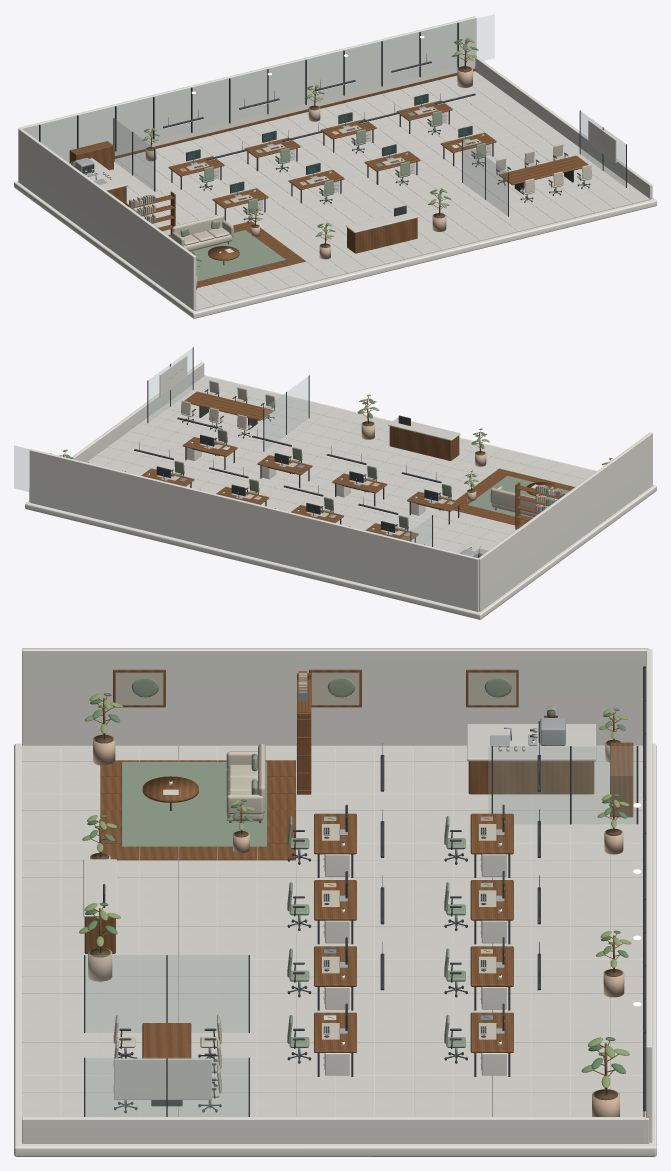
File: headquarters.glb
3 views of the same model, one above another, from view 1: azimuth 30°, elevation 25°; view 2: azimuth 150°, elevation 25°; view 3: azimuth 270°, elevation 25° (orthographic). The views are drawn at different scales.
Visible parts, largest first — view 1: Static batch / Warm limestone, Static batch / Ivory plaster, Static batch / Low iron architectural glass, Static batch / Natural oak / longitudinal grain, Static batch / Graphite powder coated steel, Static batch / Olive linen, Static batch / Oat bouclé, Static batch / Matte ceramic, Static batch / Monitor dark glass, Static batch / Brushed aluminium, Static batch / Porcelain, Static batch / Young leaves; view 2: Static batch / Ivory plaster, Static batch / Warm limestone, Static batch / Natural oak / longitudinal grain, Static batch / Low iron architectural glass, Static batch / Graphite powder coated steel, Static batch / Oat bouclé, Static batch / Olive linen, Static batch / Porcelain, Static batch / Matte ceramic, Static batch / Brushed aluminium; view 3: Static batch / Warm limestone, Static batch / Ivory plaster, Static batch / Low iron architectural glass, Static batch / Natural oak / longitudinal grain, Static batch / Olive linen, Static batch / Oat bouclé, Static batch / Graphite powder coated steel, Static batch / Porcelain, Static batch / Matte ceramic, Static batch / Brushed aluminium, Static batch / Young leaves, Static batch / Ficus leaf (+1 smaller).
Boxes of the visible parts, <box> form: Static batch / Warm limestone: <box>70,71,651,310</box>; Static batch / Ivory plaster: <box>14,16,656,318</box>; Static batch / Low iron architectural glass: <box>41,14,625,215</box>; Static batch / Natural oak / longitudinal grain: <box>69,39,588,287</box>; Static batch / Graphite powder coated steel: <box>39,22,626,265</box>; Static batch / Olive linen: <box>180,110,610,281</box>; Static batch / Oat bouclé: <box>172,106,591,251</box>; Static batch / Matte ceramic: <box>145,66,472,289</box>; Static batch / Monitor dark glass: <box>187,94,472,193</box>; Static batch / Brushed aluminium: <box>74,104,584,220</box>; Static batch / Porcelain: <box>85,120,616,253</box>; Static batch / Young leaves: <box>144,37,476,269</box>; Static batch / Ivory plaster: <box>25,362,656,619</box>; Static batch / Warm limestone: <box>86,376,595,611</box>; Static batch / Natural oak / longitudinal grain: <box>63,391,610,541</box>; Static batch / Low iron architectural glass: <box>14,348,482,557</box>; Static batch / Graphite powder coated steel: <box>50,347,477,557</box>; Static batch / Oat bouclé: <box>157,380,541,535</box>; Static batch / Olive linen: <box>170,369,569,530</box>; Static batch / Porcelain: <box>147,355,472,550</box>; Static batch / Matte ceramic: <box>361,421,486,501</box>; Static batch / Brushed aluminium: <box>161,401,487,557</box>; Static batch / Warm limestone: <box>22,724,645,1116</box>; Static batch / Ivory plaster: <box>14,648,656,1156</box>; Static batch / Low iron architectural glass: <box>85,668,645,1141</box>; Static batch / Natural oak / longitudinal grain: <box>84,669,644,1116</box>; Static batch / Olive linen: <box>121,677,511,1047</box>; Static batch / Oat bouclé: <box>113,672,516,1097</box>; Static batch / Graphite powder coated steel: <box>84,666,645,1116</box>; Static batch / Porcelain: <box>114,734,535,1099</box>; Static batch / Matte ceramic: <box>88,734,624,1116</box>; Static batch / Brushed aluminium: <box>124,718,565,1108</box>; Static batch / Young leaves: <box>79,693,631,1087</box>; Static batch / Ficus leaf: <box>85,693,628,1073</box>.
Size of the model in its own units: 25.13 by 3.28 by 16.4.
Materials: 20 (1 with a texture image).
